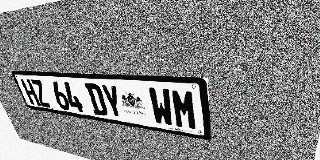4: (61, 81, 84, 113)
6: (49, 81, 72, 111)
D: (84, 83, 109, 117)
H: (20, 79, 41, 106)
M: (170, 89, 198, 131)
W: (148, 87, 175, 127)
Y: (100, 84, 125, 119)
Z: (30, 79, 51, 107)
